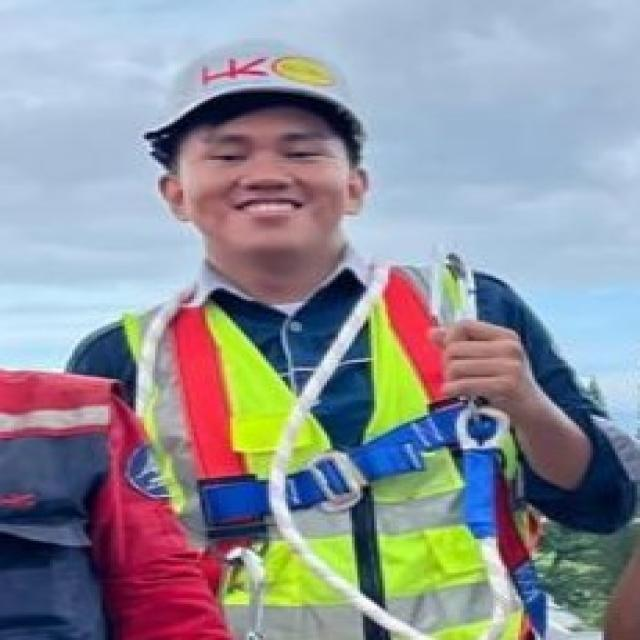safetyhelmet: (148, 34, 372, 216)
